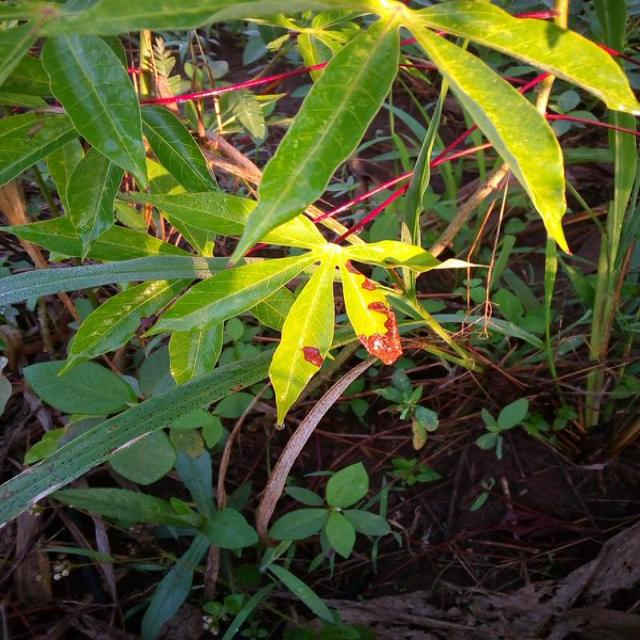cassava leaf: (226, 14, 400, 268), (398, 7, 573, 256), (40, 30, 149, 188)
